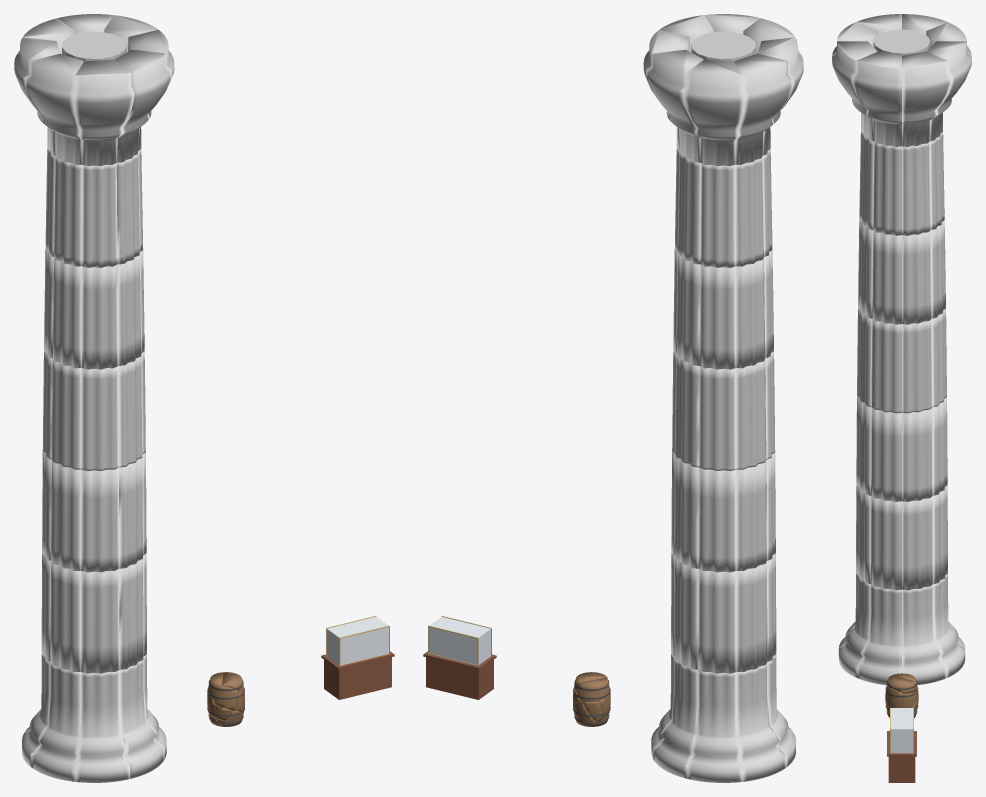
Rendered from HallFractured.fbx.
3 views of the same model, side by side, from view 1: azimuth 30°, elevation 25°; view 2: azimuth 150°, elevation 25°; view 3: azimuth 270°, elevation 25° (orthographic). The views are drawn at different scales.
Visible parts, largest first — view 1: ColChunk_b6_s5, ColChunk_b0_s5, ColChunk_b6_s4, ColChunk_b0_s4, ColChunk_b1_s5, ColChunk_b2_s5, ColChunk_b3_s5, ColChunk_b4_s5, ColChunk_b5_s5, ColChunk_b6_s6, ColChunk_b0_s6, ColChunk_b1_s4 (+23 smaller); view 2: ColChunk_b6_s2, ColChunk_b0_s2, ColChunk_b6_s3, ColChunk_b0_s3, ColChunk_b1_s2, ColChunk_b2_s2, ColChunk_b3_s2, ColChunk_b4_s2, ColChunk_b5_s2, ColChunk_b0_s1, ColChunk_b6_s1, ColChunk_b1_s3 (+24 smaller); view 3: ColChunk_b6_s0, ColChunk_b6_s7, ColChunk_b0_s0, ColChunk_b0_s7, ColChunk_b2_s0, ColChunk_b2_s7, ColChunk_b1_s0, ColChunk_b1_s7, ColChunk_b3_s0, ColChunk_b3_s7, ColChunk_b4_s0, ColChunk_b4_s7 (+25 smaller).
Boxes of the visible parts, box(x1,y1,x2,y2) form: ColChunk_b6_s5: box(73, 59, 134, 166); ColChunk_b0_s5: box(75, 670, 130, 782); ColChunk_b6_s4: box(25, 53, 83, 164); ColChunk_b0_s4: box(31, 662, 81, 781); ColChunk_b1_s5: box(81, 569, 119, 673); ColChunk_b2_s5: box(81, 467, 119, 572); ColChunk_b3_s5: box(81, 366, 118, 470); ColChunk_b4_s5: box(82, 264, 118, 369); ColChunk_b5_s5: box(82, 163, 117, 267); ColChunk_b6_s6: box(114, 49, 171, 162); ColChunk_b0_s6: box(119, 660, 164, 778); ColChunk_b1_s4: box(50, 561, 81, 671); ColChunk_b6_s2: box(683, 59, 744, 166); ColChunk_b0_s2: box(687, 670, 742, 782); ColChunk_b6_s3: box(734, 53, 792, 164); ColChunk_b0_s3: box(736, 662, 786, 781); ColChunk_b1_s2: box(698, 569, 736, 673); ColChunk_b2_s2: box(698, 467, 736, 572); ColChunk_b3_s2: box(699, 366, 736, 470); ColChunk_b4_s2: box(699, 264, 735, 369); ColChunk_b5_s2: box(700, 163, 735, 267); ColChunk_b0_s1: box(653, 660, 698, 778); ColChunk_b6_s1: box(646, 49, 703, 162); ColChunk_b1_s3: box(736, 561, 767, 671); ColChunk_b6_s0: box(902, 51, 951, 146); ColChunk_b6_s7: box(852, 51, 901, 146); ColChunk_b0_s0: box(902, 584, 946, 684); ColChunk_b0_s7: box(857, 584, 901, 684); ColChunk_b2_s0: box(902, 408, 932, 501); ColChunk_b2_s7: box(871, 408, 901, 501); ColChunk_b1_s0: box(902, 496, 932, 590); ColChunk_b1_s7: box(871, 496, 901, 590); ColChunk_b3_s0: box(902, 319, 932, 413); ColChunk_b3_s7: box(871, 319, 901, 413); ColChunk_b4_s0: box(902, 230, 931, 324); ColChunk_b4_s7: box(872, 230, 901, 324).
Size of the model in its own units: 10.95 by 20.5 by 4.2.
